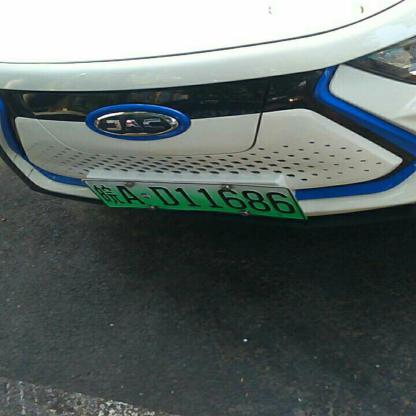lp: (84, 180, 304, 218)
